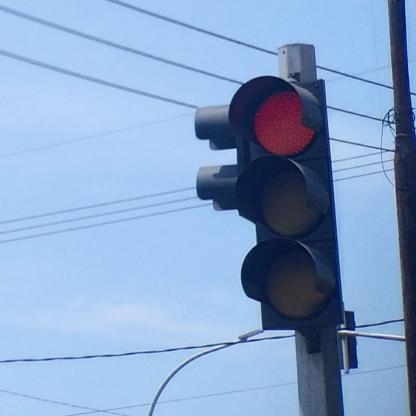red: (224, 75, 344, 328)
